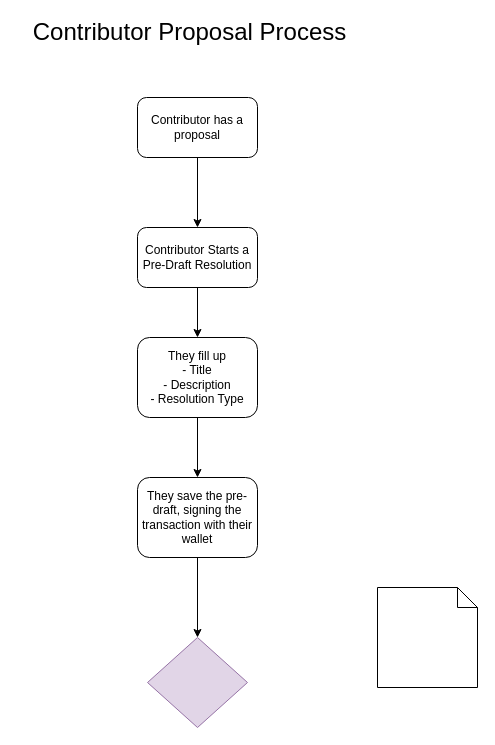
The diagram is 495 pixels wide and 745 high, and some of its shapes have lost their labels. Here are the shapes that lost their labels. From the top down, the box of each, then its label:
(376, 586, 478, 688): Contributor: has a share and has been appointed as contributor
(146, 636, 248, 728): Is User a Contributor
